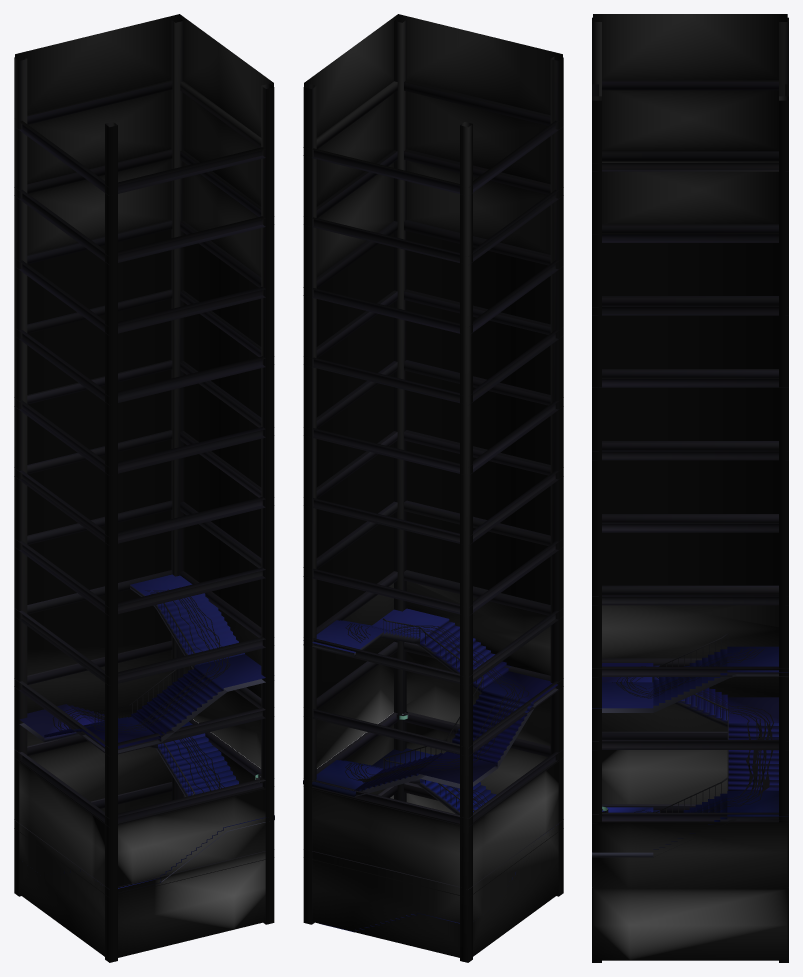
File: kaiden_c80.dae
The picture shows the model from 3 angles, left to right: view 1: azimuth 30°, elevation 25°; view 2: azimuth 150°, elevation 25°; view 3: azimuth 270°, elevation 25°; orthographic projection. The views are drawn at different scales.
Visible parts, largest first — view 1: mesh0; view 2: mesh0; view 3: mesh0.
Boxes of the visible parts, left/top/right/bottom form: mesh0: left=14, top=14, right=274, bottom=962; mesh0: left=303, top=14, right=563, bottom=962; mesh0: left=592, top=14, right=788, bottom=962.
Bounding box in the file's own units: 96.67 × 96.51 × 468.
Materials: 2 (1 with a texture image).
